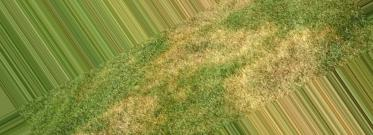patch: (234, 38, 320, 101), (164, 21, 230, 71), (103, 90, 158, 135)
